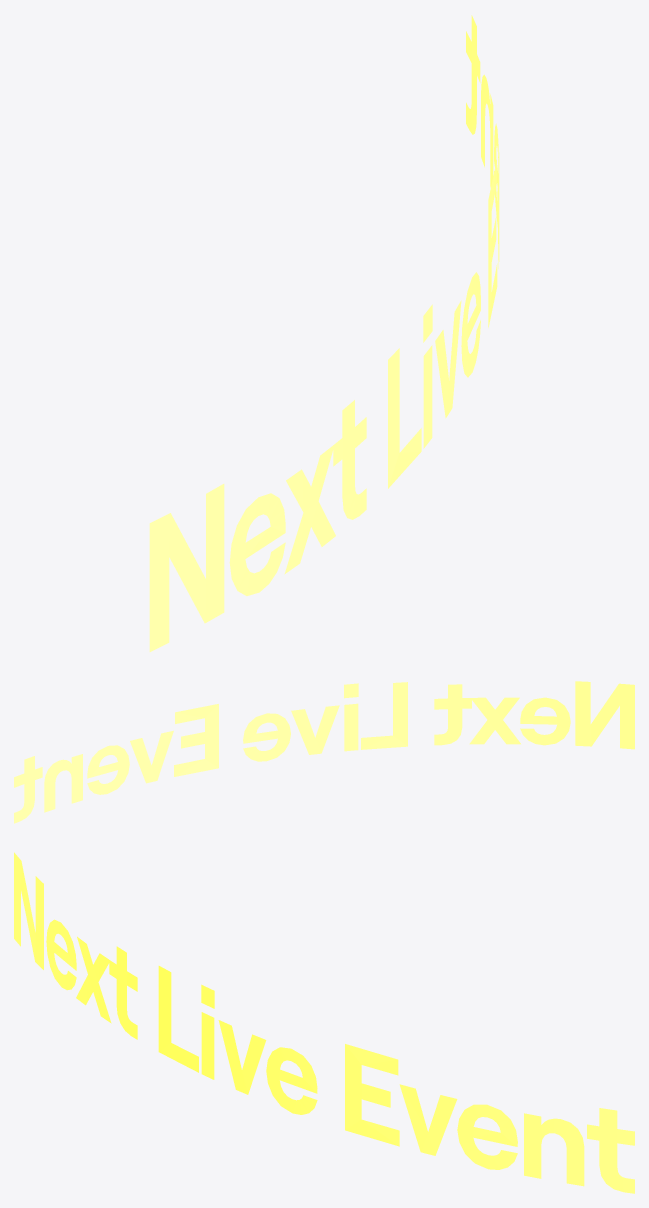
The model's file is next_live_events.glb.
The picture shows the model from 3 angles, top to bottom: view 1: azimuth 30°, elevation 25°; view 2: azimuth 150°, elevation 25°; view 3: azimuth 270°, elevation 25°; orthographic projection. The views are drawn at different scales.
Parts seen in each view (by area): view 1: NextLiveEvent; view 2: NextLiveEvent; view 3: NextLiveEvent.
Boxes of the visible parts, x1,y1,x2,y2 form: NextLiveEvent: (149,15,499,651); NextLiveEvent: (14,681,634,823); NextLiveEvent: (14,852,634,1193).
Bounding box in the file's own units: 3.33 × 0.5505 × 3.42.
